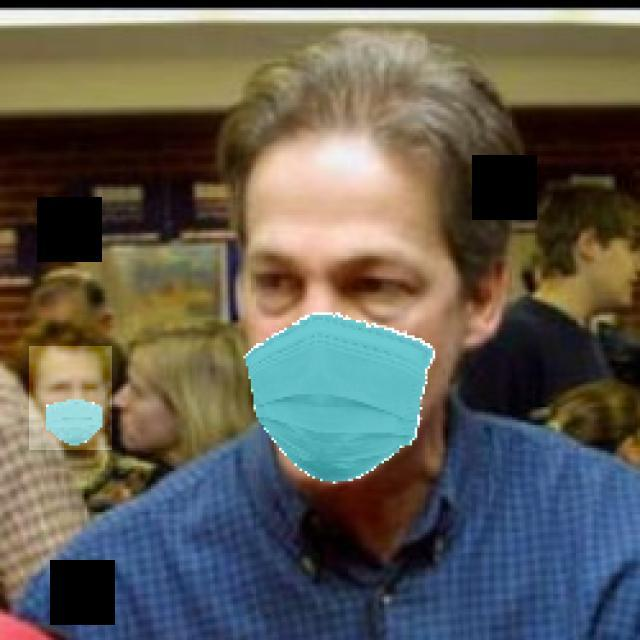surgical: (243, 155, 460, 485), (29, 346, 112, 449)
